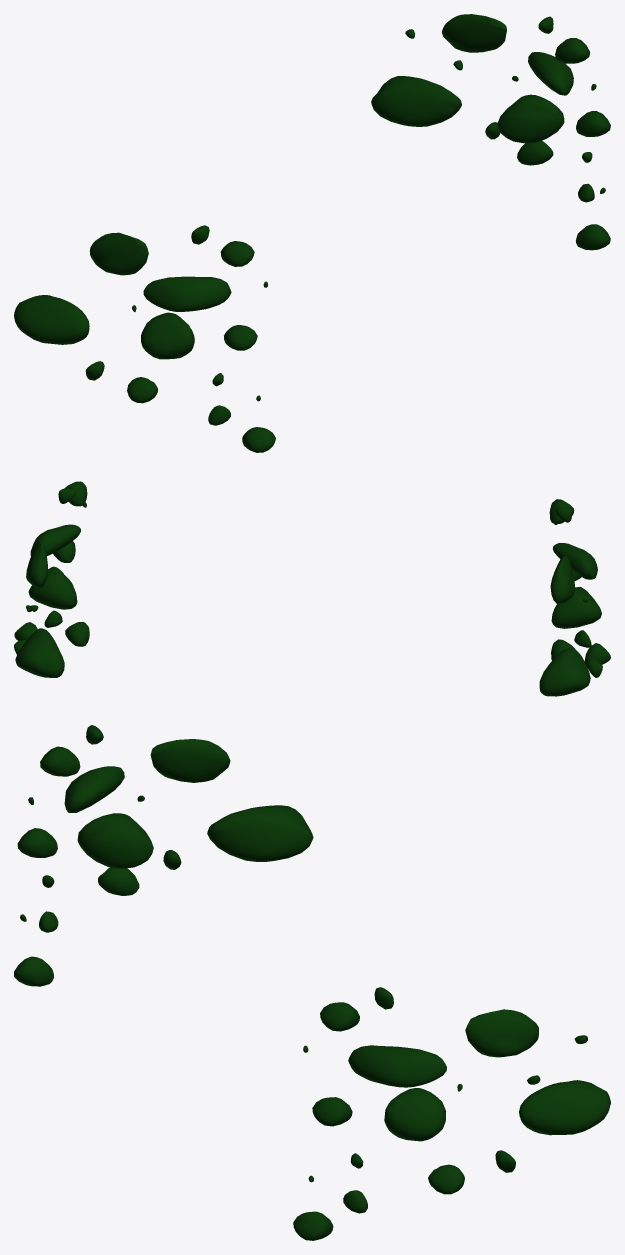
The picture shows the model from 3 angles, top to bottom: view 1: azimuth 30°, elevation 25°; view 2: azimuth 150°, elevation 25°; view 3: azimuth 270°, elevation 25°; orthographic projection. The views are drawn at different scales.
Visible parts, largest first — view 1: 153; view 2: 153; view 3: 153.
Boxes of the visible parts, x1,y1,x2,y2 form: 153: (14,14,610,452); 153: (14,481,610,696); 153: (14,725,610,1240).
Size of the model in its own units: 110 by 80.94 by 35.98.
